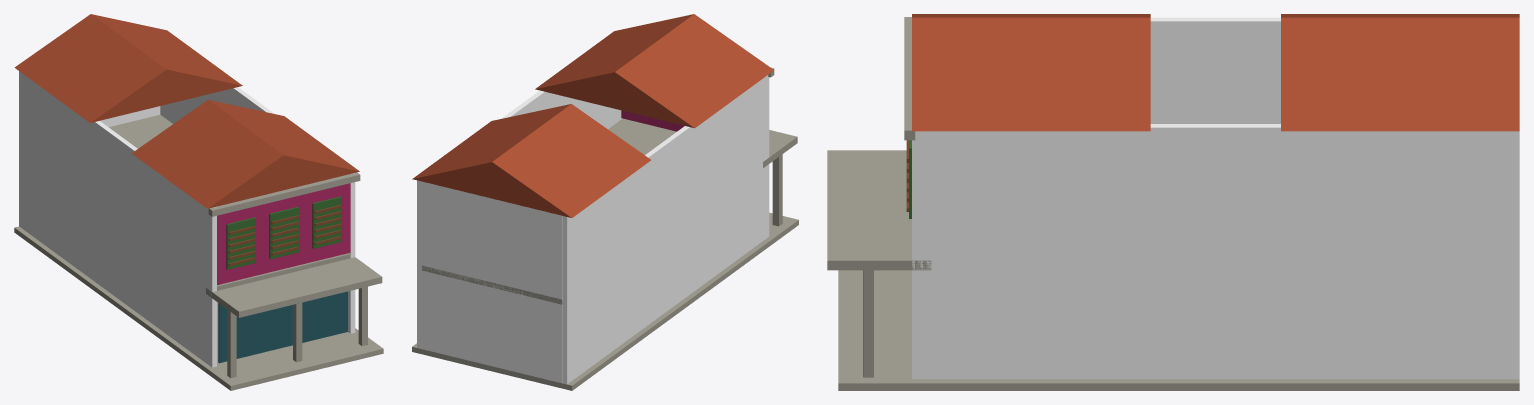
File: shophouse.glb
3 views of the same model, side by side, from view 1: azimuth 30°, elevation 25°; view 2: azimuth 150°, elevation 25°; view 3: azimuth 270°, elevation 25° (orthographic). The views are drawn at different scales.
Visible parts, largest first — view 1: Party_Wall, Front_Pitched_Roof, Rear_Pitched_Roof, Base, Upper_Facade, Arcade_Canopy, Shopfront, Party_Wall.001, Cornice, Shutter_Window.001, Shutter_Window, Shutter_Window.002 (+7 smaller); view 2: Party_Wall, Rear_Wall, Front_Pitched_Roof, Rear_Pitched_Roof, Base, Party_Wall.001, Airwell_Side_Floor, Arcade_Column.001, Arcade_Canopy, Upper_Facade, Airwell_End_Floor.001, Airwell_End_Floor; view 3: Party_Wall.001, Front_Pitched_Roof, Rear_Pitched_Roof, Base, Party_Wall, Arcade_Canopy, Arcade_Column, Cornice.
Boxes of the visible parts, x1,y1,x2,y2 form: Party_Wall: [19, 71, 216, 367]; Front_Pitched_Roof: [132, 100, 359, 208]; Rear_Pitched_Roof: [14, 14, 242, 122]; Base: [14, 226, 383, 390]; Upper_Facade: [217, 183, 350, 284]; Arcade_Canopy: [206, 257, 382, 317]; Shopfront: [218, 291, 347, 363]; Party_Wall.001: [160, 87, 355, 333]; Cornice: [208, 172, 360, 216]; Shutter_Window.001: [269, 207, 298, 259]; Shutter_Window: [226, 217, 255, 269]; Shutter_Window.002: [312, 196, 341, 248]; Party_Wall: [562, 75, 769, 384]; Rear_Wall: [422, 181, 562, 383]; Front_Pitched_Roof: [535, 14, 773, 128]; Rear_Pitched_Roof: [412, 104, 650, 217]; Base: [412, 212, 798, 390]; Party_Wall.001: [417, 90, 622, 348]; Airwell_Side_Floor: [422, 118, 662, 279]; Arcade_Column.001: [772, 154, 782, 226]; Arcade_Canopy: [763, 130, 797, 167]; Upper_Facade: [621, 110, 684, 131]; Airwell_End_Floor.001: [635, 128, 676, 154]; Airwell_End_Floor: [462, 275, 521, 294]; Party_Wall.001: [912, 124, 1519, 379]; Front_Pitched_Roof: [912, 14, 1150, 131]; Rear_Pitched_Roof: [1281, 14, 1519, 131]; Base: [838, 270, 1519, 390]; Party_Wall: [1150, 17, 1280, 123]; Arcade_Canopy: [827, 150, 931, 270]; Arcade_Column: [863, 270, 873, 377]; Cornice: [904, 17, 915, 140].
Size of the model in its own units: 6.4 by 8 by 15.95.
